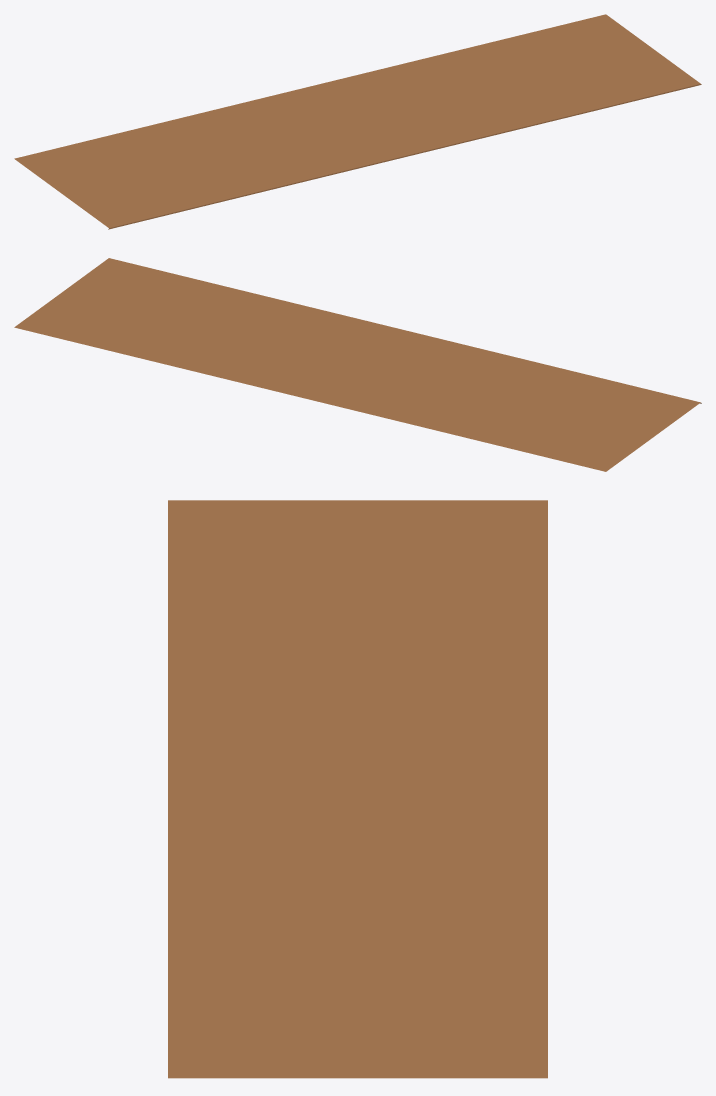
Rendered from nursery floor.FBX.
The picture shows the model from 3 angles, top to bottom: view 1: azimuth 30°, elevation 25°; view 2: azimuth 150°, elevation 25°; view 3: azimuth 270°, elevation 25°; orthographic projection. The views are drawn at different scales.
Parts seen in each view (by area): view 1: floor; view 2: floor; view 3: floor.
Part boxes in pixels (x1=…): floor: x1=14, y1=14, x2=701, y2=229; floor: x1=14, y1=258, x2=701, y2=471; floor: x1=168, y1=500, x2=547, y2=1078.
Bounding box in the file's own units: 440 × 122 × 0.8441.
